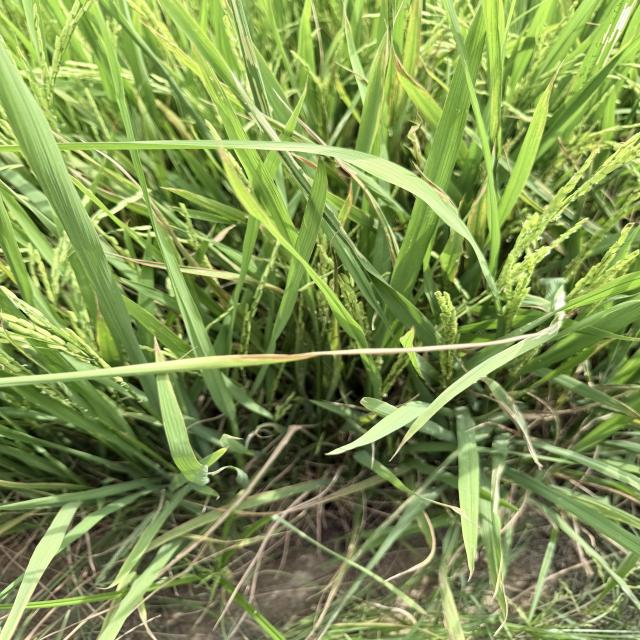Chay bia la: (233, 334, 540, 366)
